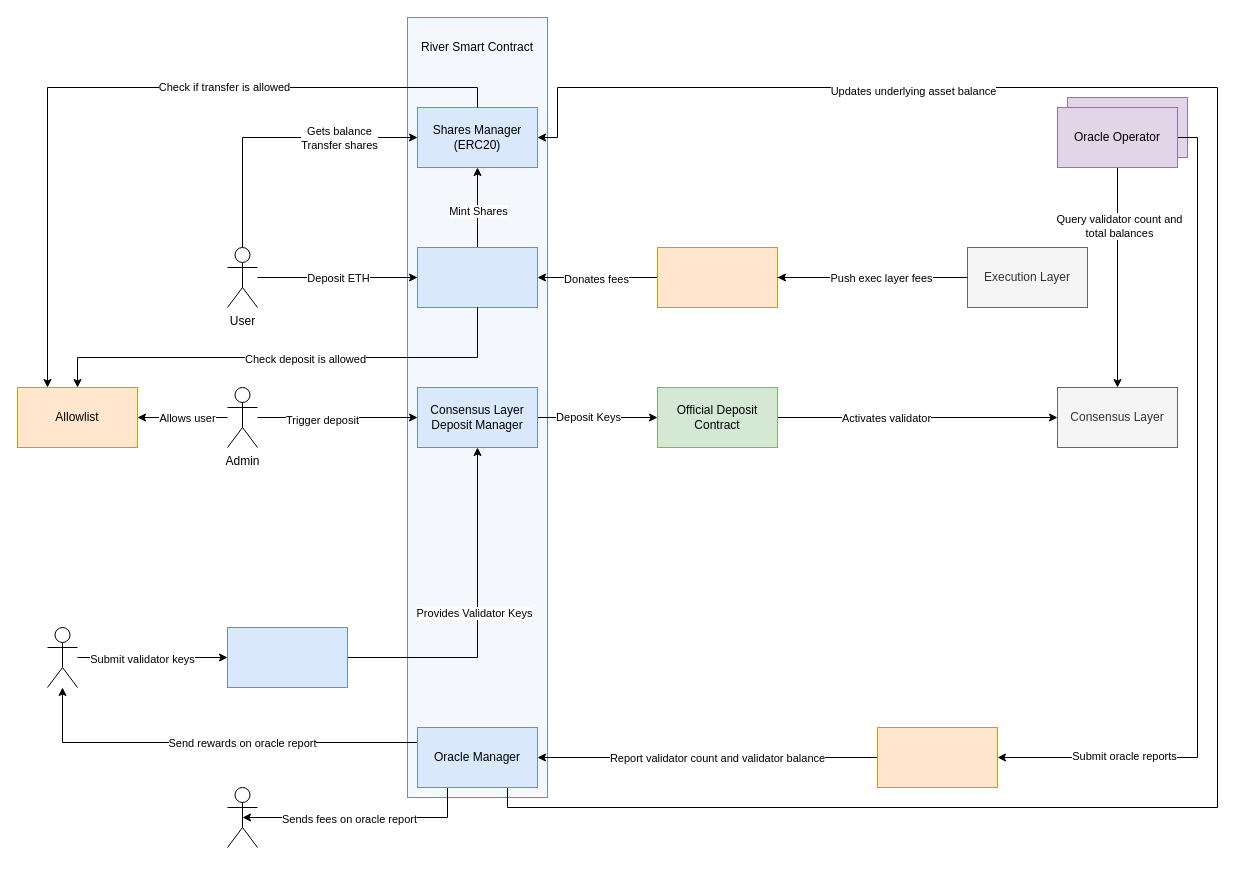
The diagram is 1243 pixels wide and 886 high, and some of its shapes have lost their labels. The shapes that lost their labels are listed below. From the top down, each one's centre as x and y in pixels, then its label:
At (477,277): "User Deposit Manager".
At (717,277): "ELFee Recipient".
At (62,657): "Operator".
At (287,657): "Operator Registry".
At (937,757): "Oracle".
At (242,817): "Treasury".
